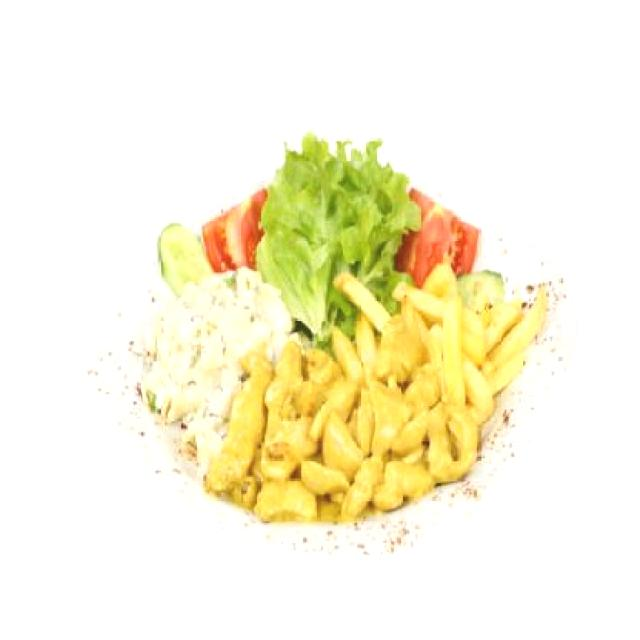fries: (202, 249, 550, 531)
